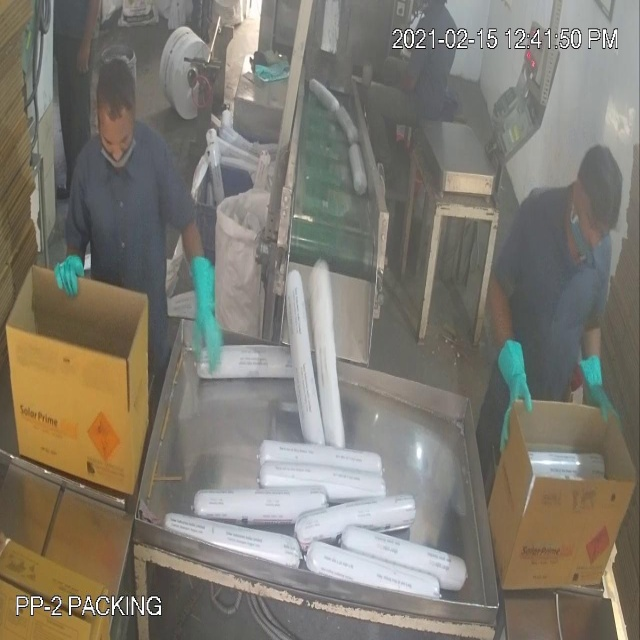Guantes: (480, 330, 537, 457), (178, 238, 222, 388), (571, 338, 628, 442), (43, 243, 98, 311)
Sin_guantes: (73, 1, 105, 84)
